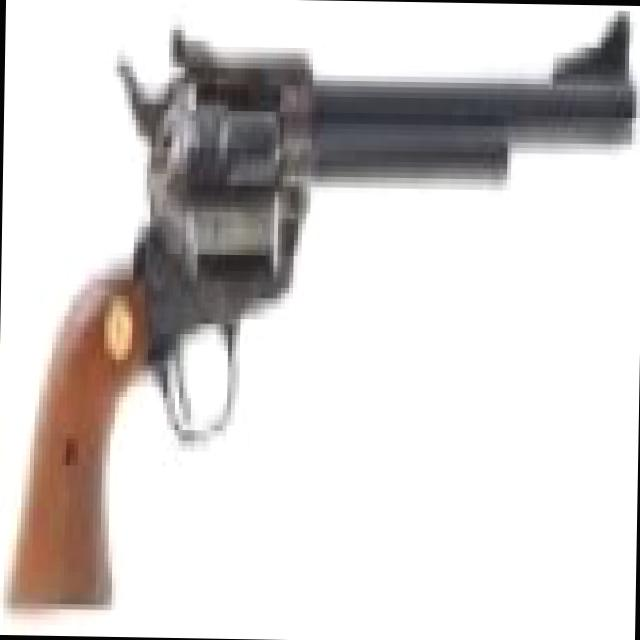handgun: (7, 5, 633, 608)
